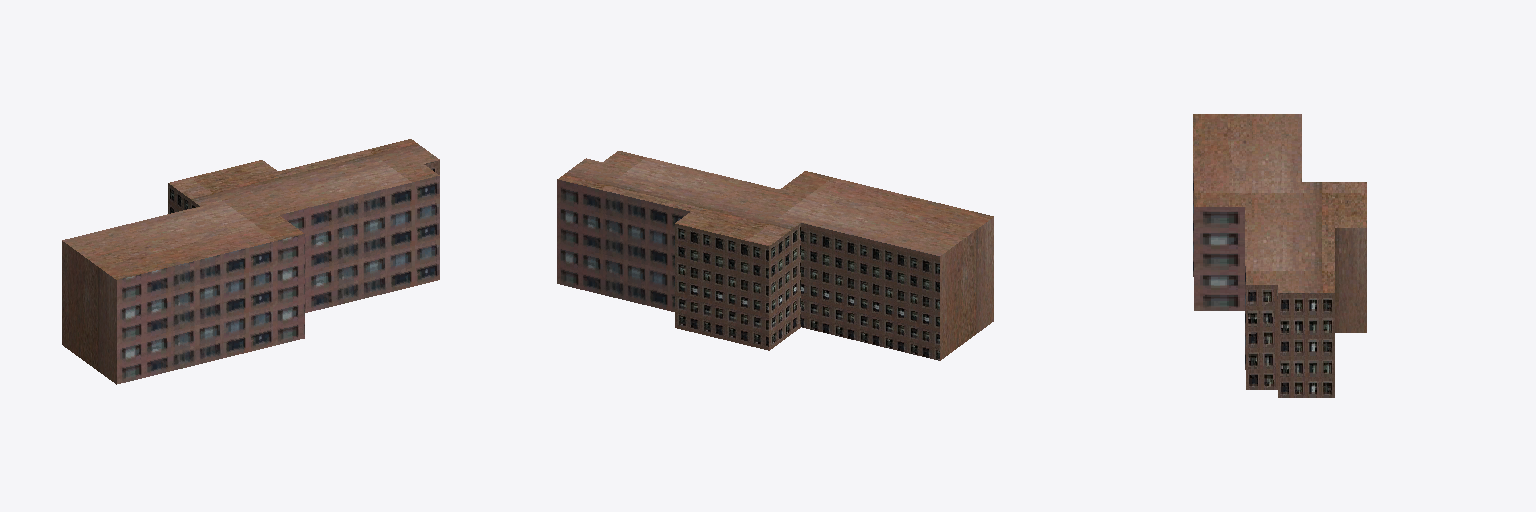
3 views of the same model, side by side, from view 1: azimuth 30°, elevation 25°; view 2: azimuth 150°, elevation 25°; view 3: azimuth 270°, elevation 25° (orthographic).
Parts seen in each view (by area): view 1: VMtl1691, VMtl1693, VMtl1690; view 2: VMtl1690, VMtl1693, VMtl1691; view 3: VMtl1693, VMtl1690, VMtl1691.
Boxes of the visible parts, box(x1,y1,x2,y2) form: VMtl1691: box(117, 176, 439, 383); VMtl1693: box(62, 139, 439, 384); VMtl1690: box(168, 160, 439, 213); VMtl1690: box(675, 223, 939, 360); VMtl1693: box(558, 151, 993, 360); VMtl1691: box(557, 179, 689, 311); VMtl1693: box(1193, 114, 1366, 332); VMtl1690: box(1246, 285, 1334, 397); VMtl1691: box(1193, 173, 1245, 369).
Bounding box in the file's own units: 79.59 × 21.7 × 32.72.
Materials: 4 (3 with a texture image).